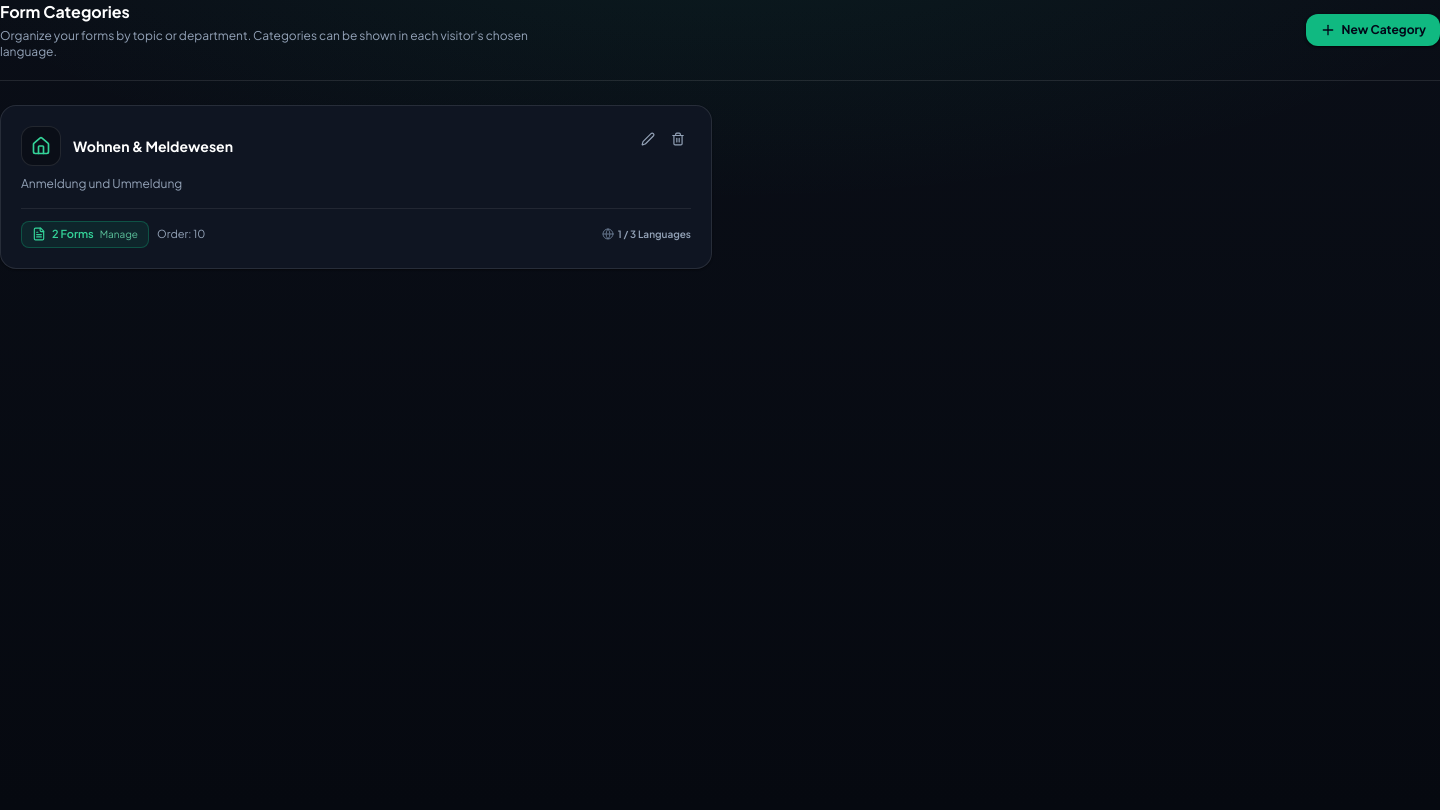
Test: Category Translation Selection Flow › allows removing a translation from the configured translations
Check: the heading "Wohnen & Meldewesen" is shown, box [73,136,233,156]
// Click Edit Category
Click the button titled "Edit Category". click: click(648, 139)
box: [635,126,661,152]
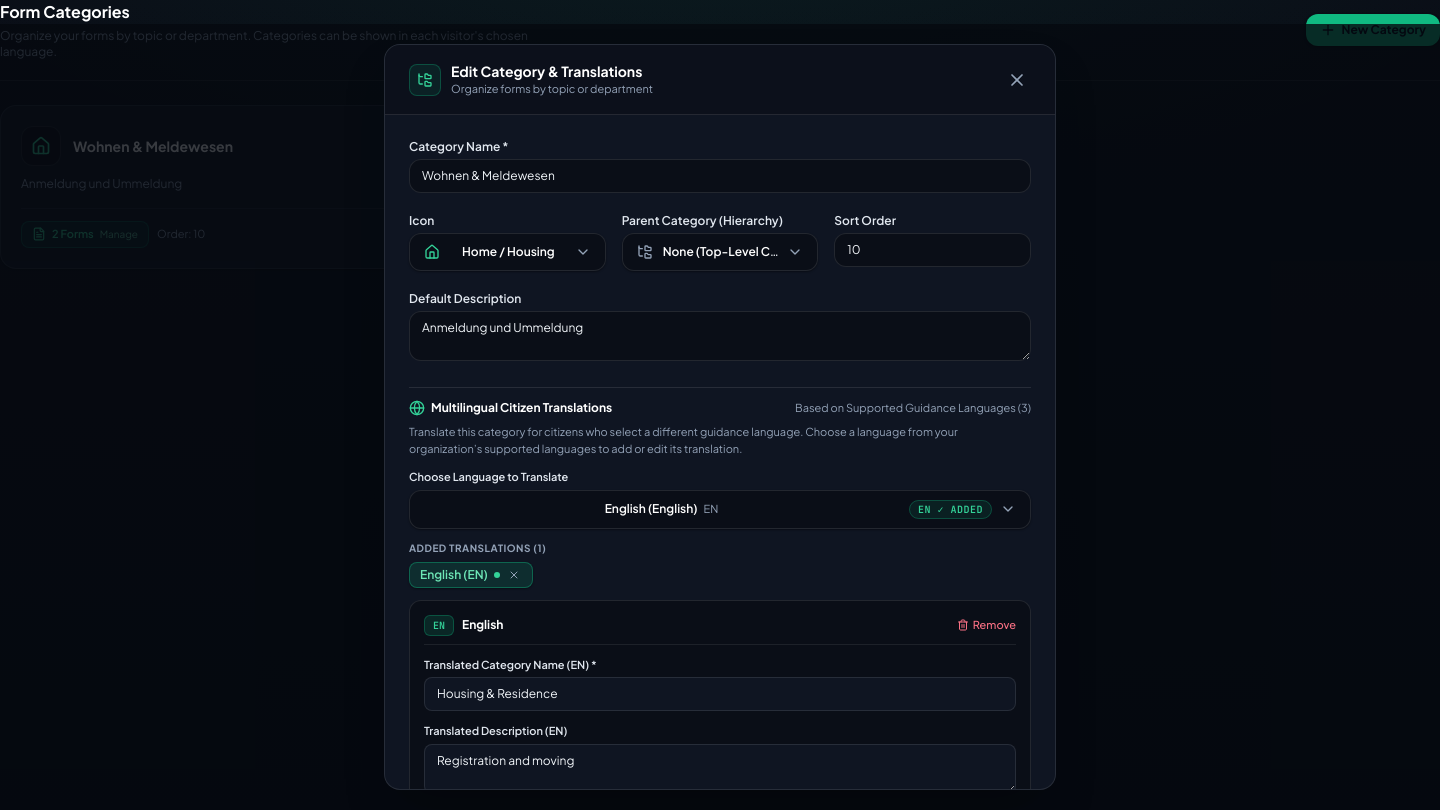
Check: the heading "Edit Category & Translations" is shown, box [451,61,653,81]
Check: the field showing "Housing & Residence" is shown, box [424,677,1016,711]
// Click remove on the active editor
Click the button titled "Remove active translation". click: click(986, 625)
box: [957,617,1016,634]
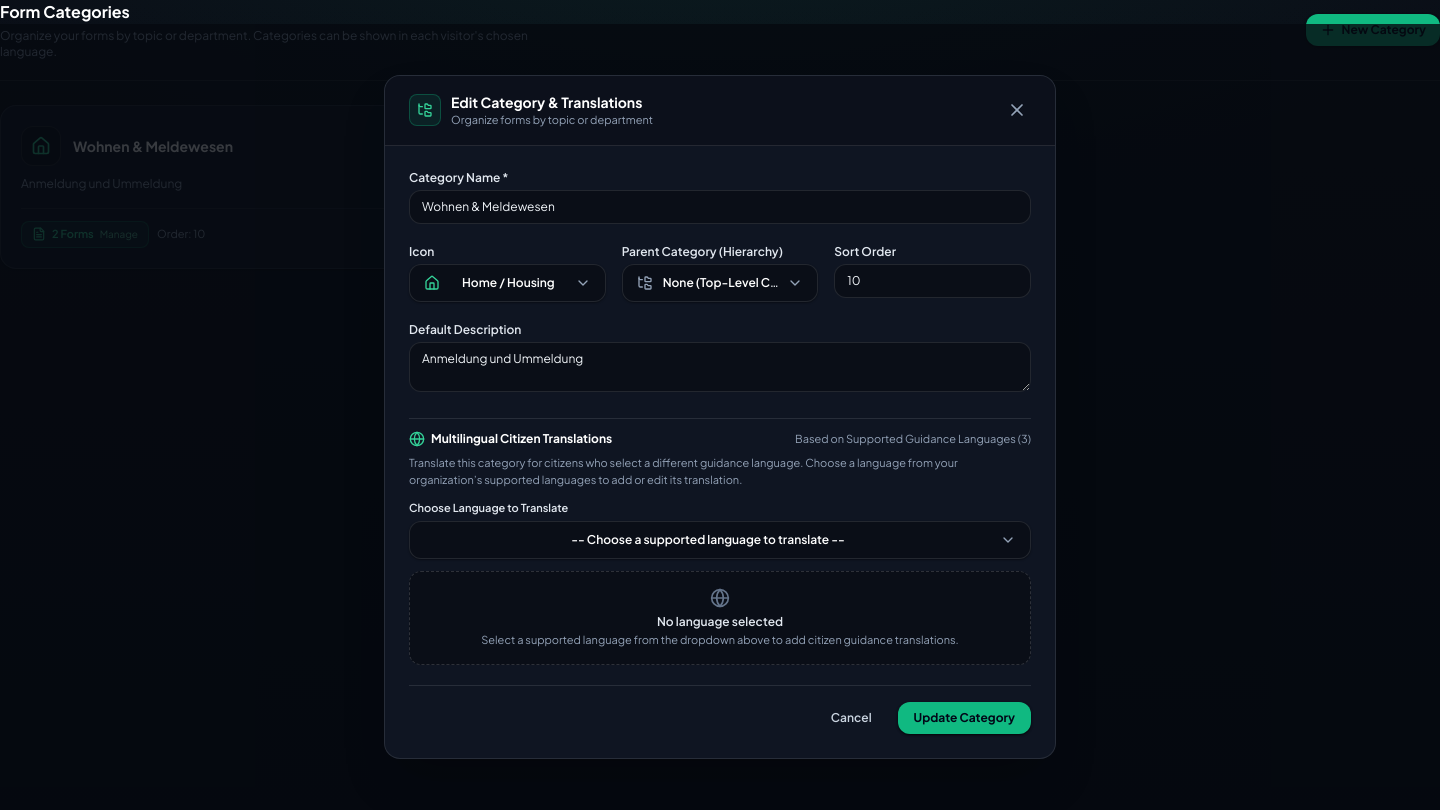
Check: the text "No language selected" is shown, box [657,614,783,628]
